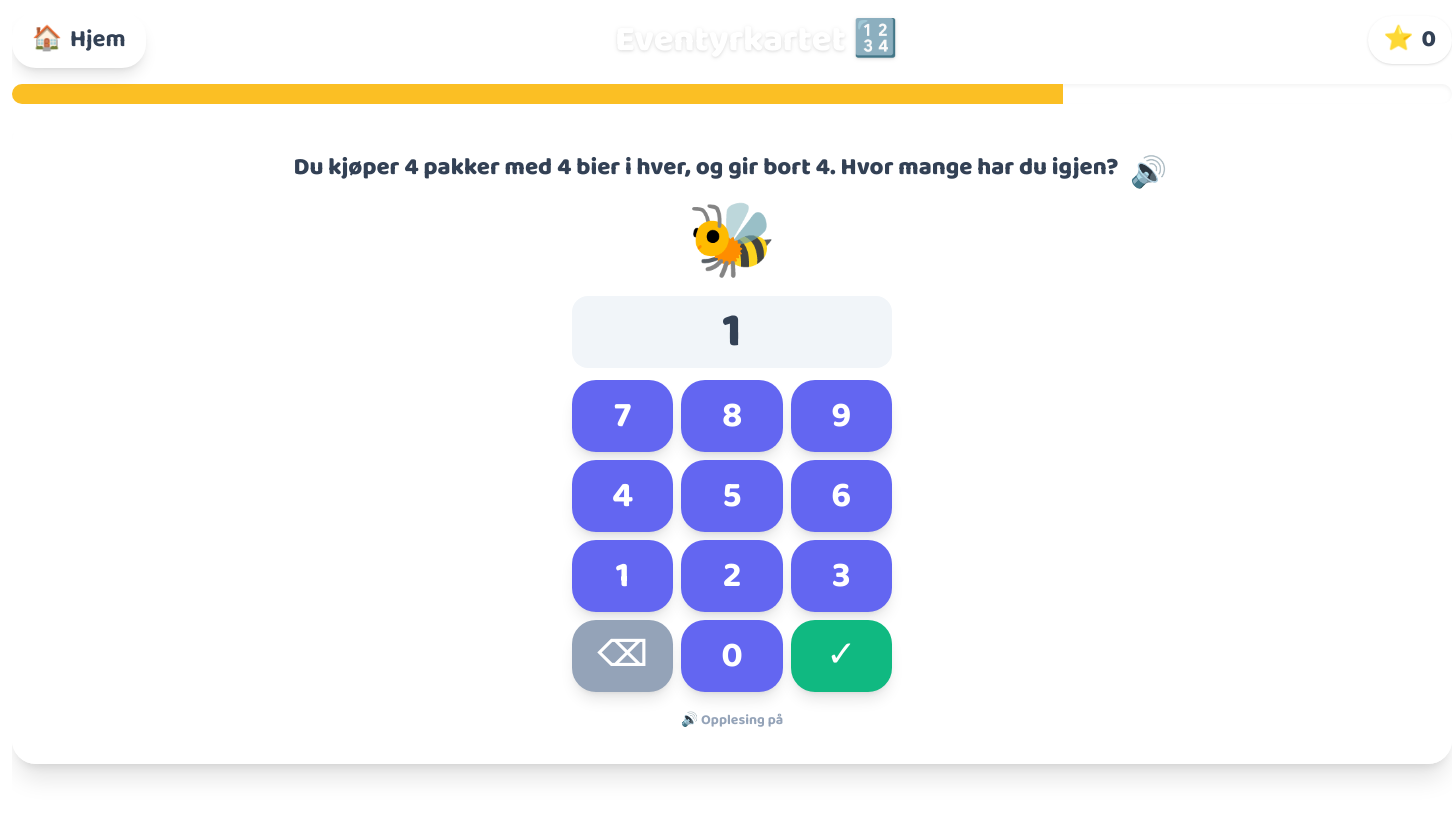
Test case: første oppdrag finner nivået (S3, S4) › ny profil, alle riktige: nivå 38, «Reven fant plassen din», ingen forbudte ord underveis
Earlier steps of the test are not shown.
Click the button "2" at (732, 576), box 681,540 -> 783,612
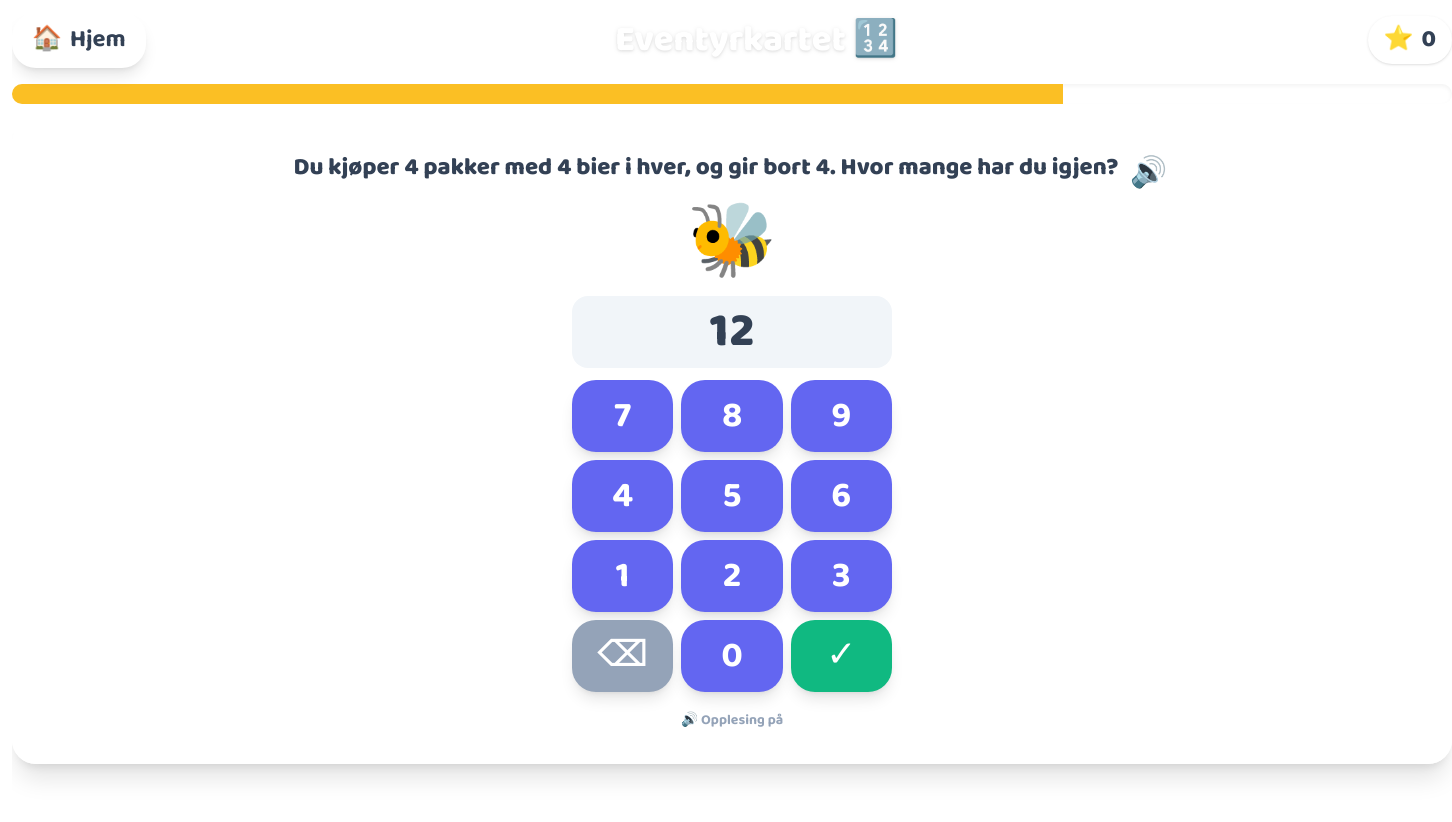
Click the button "✓" at (841, 656), box 791,620 -> 892,692
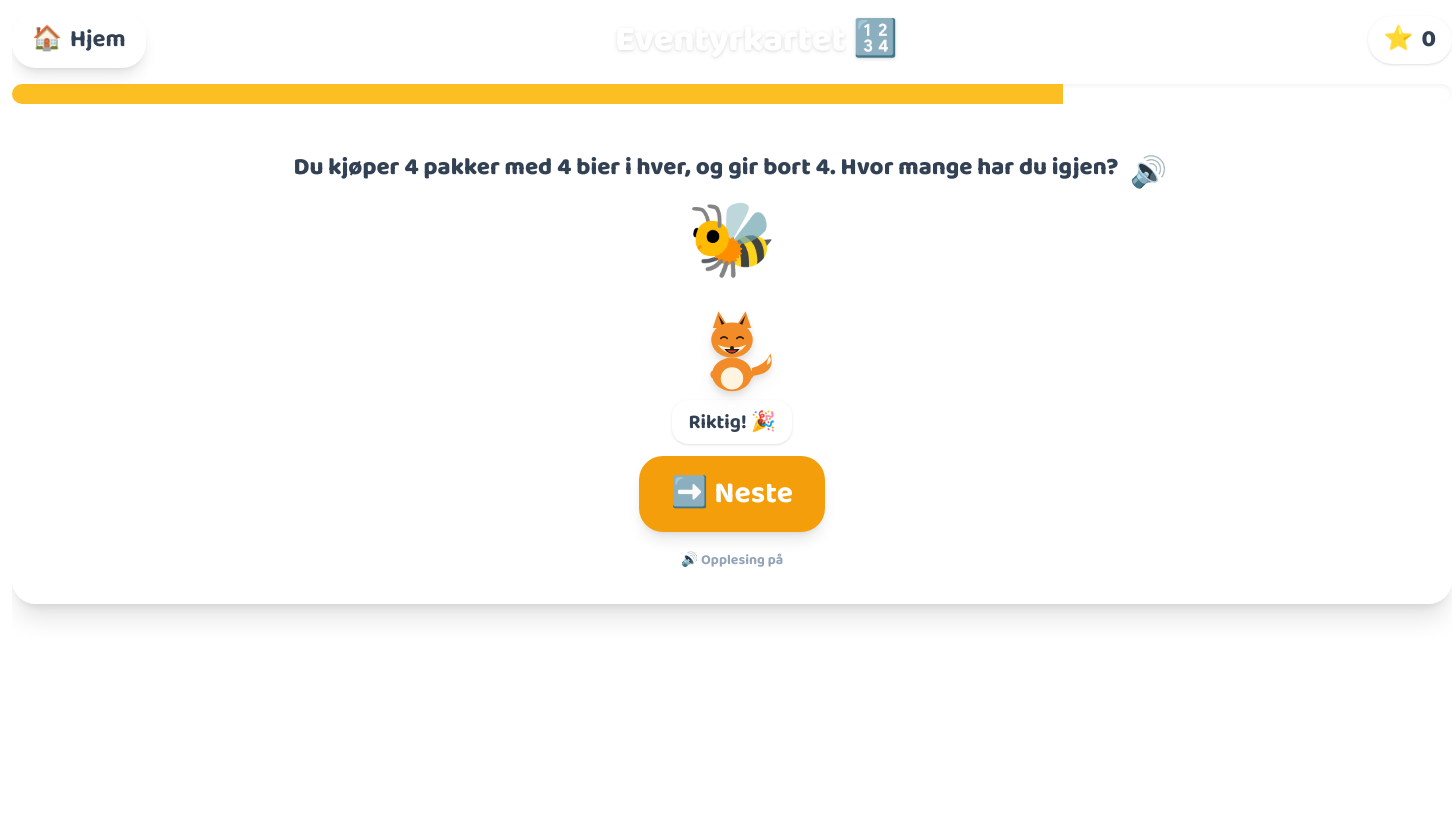
Click the button "➡️ Neste" at (732, 494), box 639,456 -> 825,532
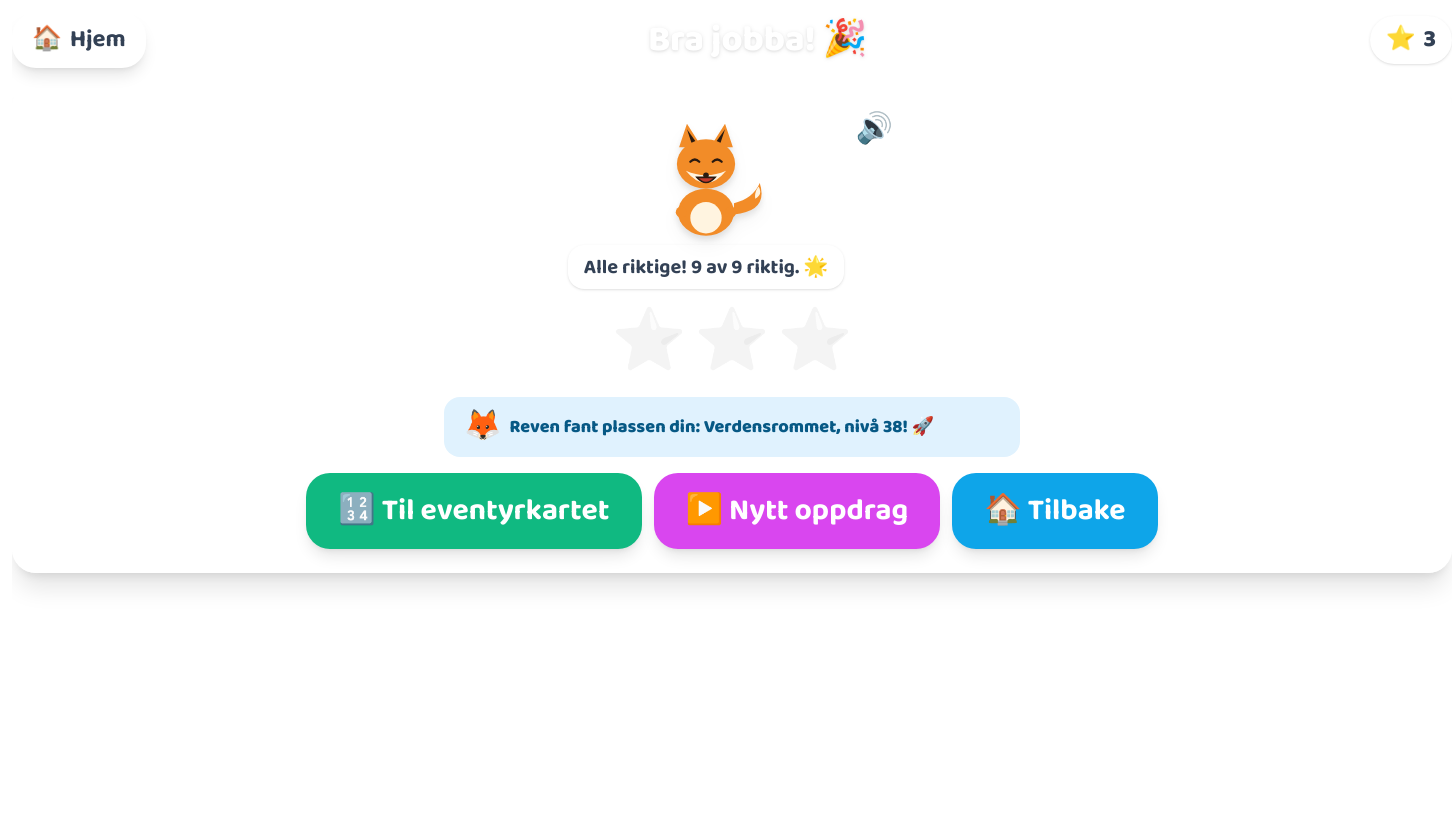
Check: the element with test id "funnet" shows "Reven fant plassen din", box 509,413 -> 704,441
Check: the element with test id "funnet" shows "nivå 38", box 444,397 -> 1020,457
